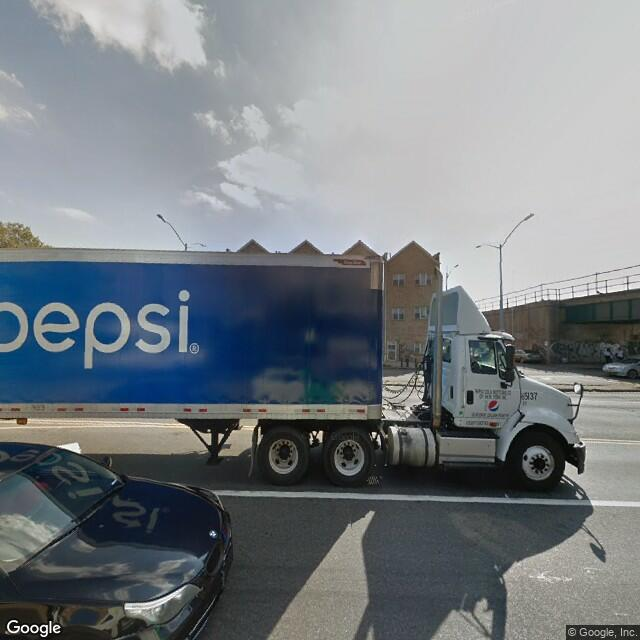litter: (558, 355, 578, 365)
